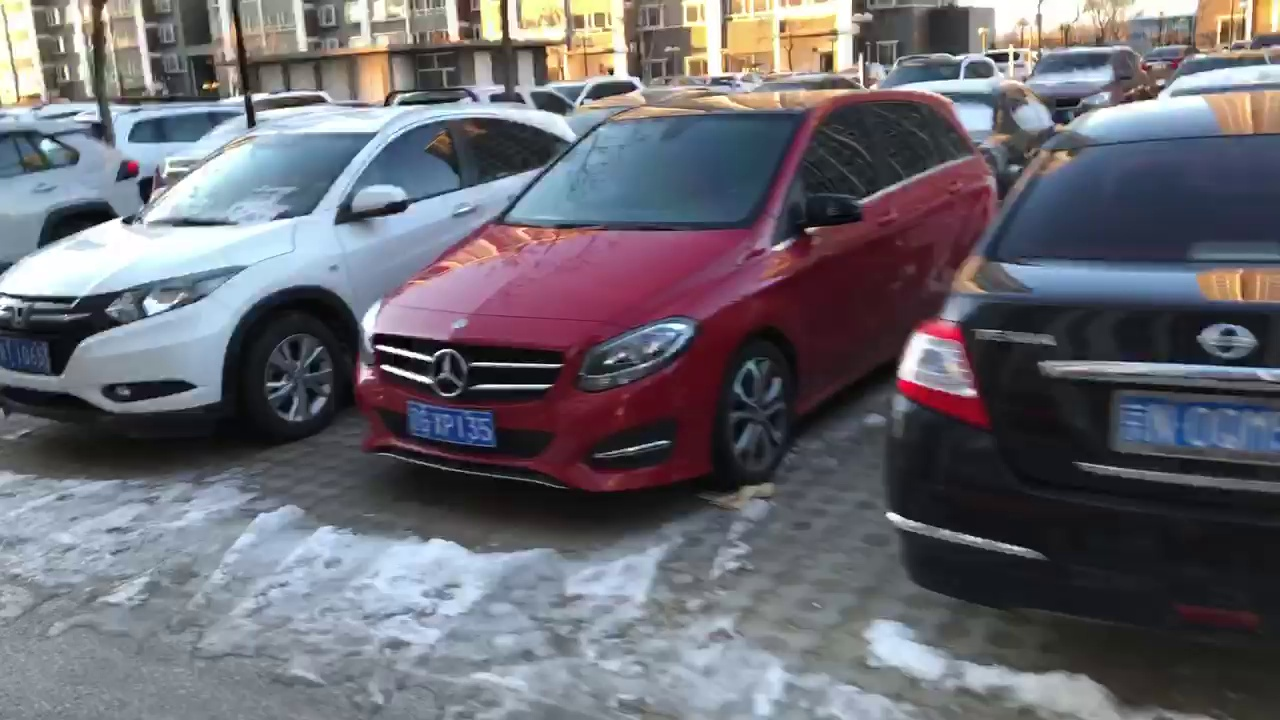plate: (1112, 391, 1280, 462), (404, 403, 498, 447), (1, 340, 57, 379)
